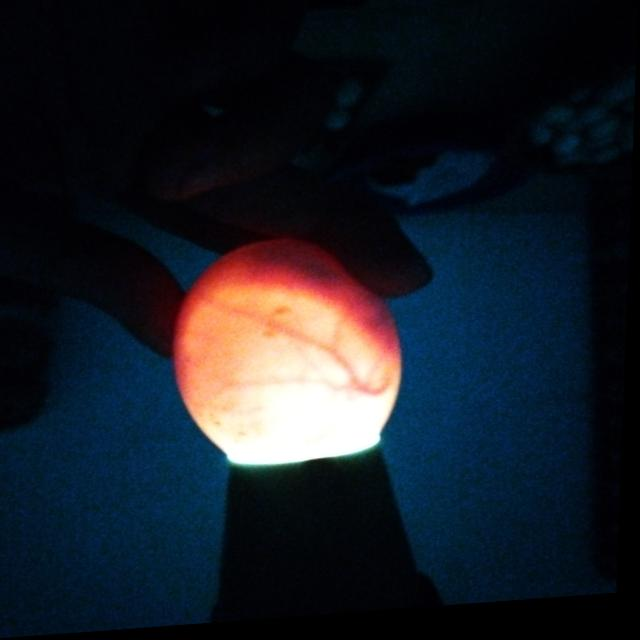Embriao: (176, 242, 406, 392)
